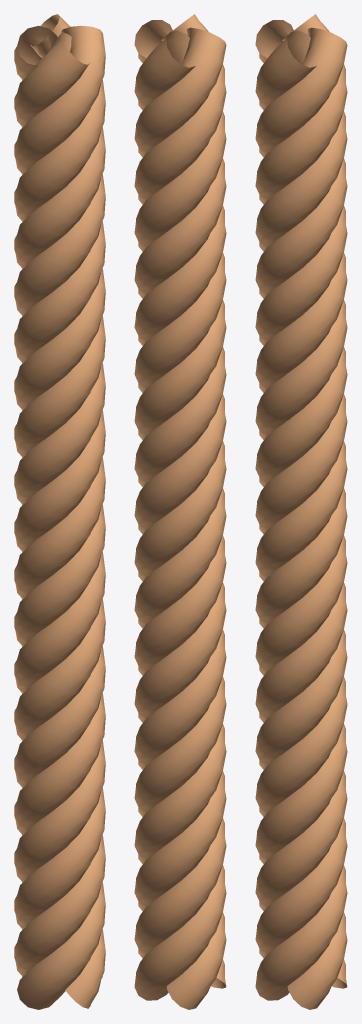
The model's file is rope.v4.fbx.
The picture shows the model from 3 angles, left to right: view 1: azimuth 90°, elevation 25°; view 2: azimuth 150°, elevation 25°; view 3: azimuth 330°, elevation 25°; orthographic projection.
Parts seen in each view (by area): view 1: Circle.003; view 2: Circle.003; view 3: Circle.003.
Boxes of the visible parts, left/top/right/bottom form: Circle.003: left=14, top=14, right=105, bottom=1009; Circle.003: left=134, top=14, right=226, bottom=1009; Circle.003: left=255, top=14, right=347, bottom=1009.
Size of the model in its own units: 10.9 by 128 by 10.9.
